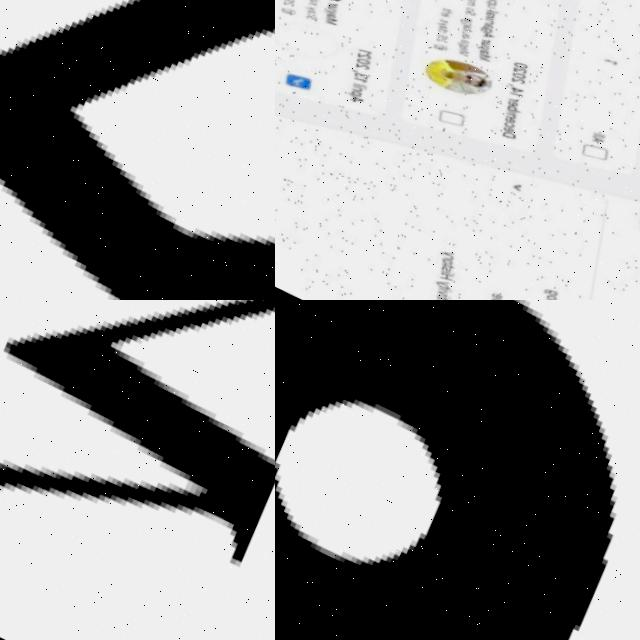0: (508, 65, 526, 80), (510, 54, 528, 69), (353, 51, 371, 66)
1: (601, 53, 616, 64), (507, 86, 522, 97), (351, 73, 366, 84), (356, 45, 371, 56)
2: (507, 70, 526, 85), (509, 60, 527, 75), (354, 47, 372, 62), (353, 58, 369, 72), (434, 33, 447, 43), (280, 0, 293, 7)
3: (350, 66, 368, 80)
4: (505, 79, 524, 94)
9: (434, 29, 447, 39), (281, 0, 294, 4)
M: (0, 300, 275, 640)
O: (275, 300, 640, 640)
Y: (0, 0, 275, 300)
